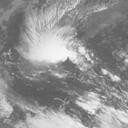cyclone: (36, 34, 67, 64)
